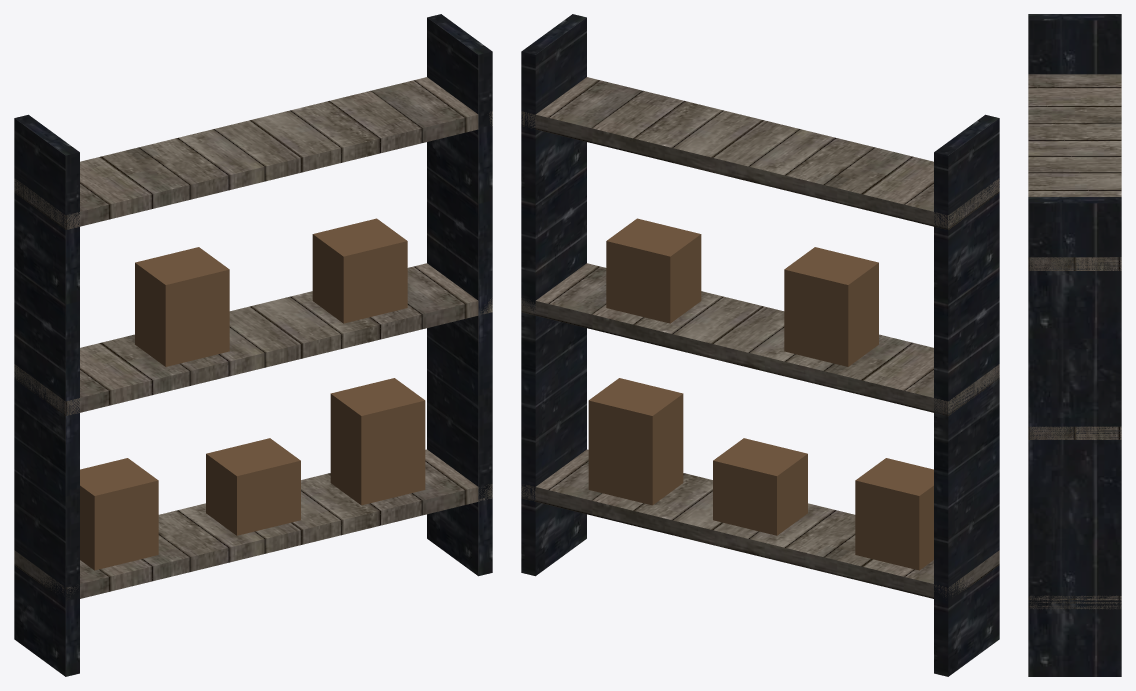
Rendered from shelf_wall_01.glb.
The picture shows the model from 3 angles, left to right: view 1: azimuth 30°, elevation 25°; view 2: azimuth 150°, elevation 25°; view 3: azimuth 270°, elevation 25°; orthographic projection. The views are drawn at different scales.
Visible parts, largest first — view 1: shelf_wall_01; view 2: shelf_wall_01; view 3: shelf_wall_01.
Part boxes in pixels (x1=…): shelf_wall_01: x1=14, y1=14, x2=492, y2=676; shelf_wall_01: x1=521, y1=14, x2=999, y2=676; shelf_wall_01: x1=1028, y1=14, x2=1121, y2=676.
Size of the model in its own units: 1.2 by 1.4 by 0.25.
3 materials, 2 textured.
